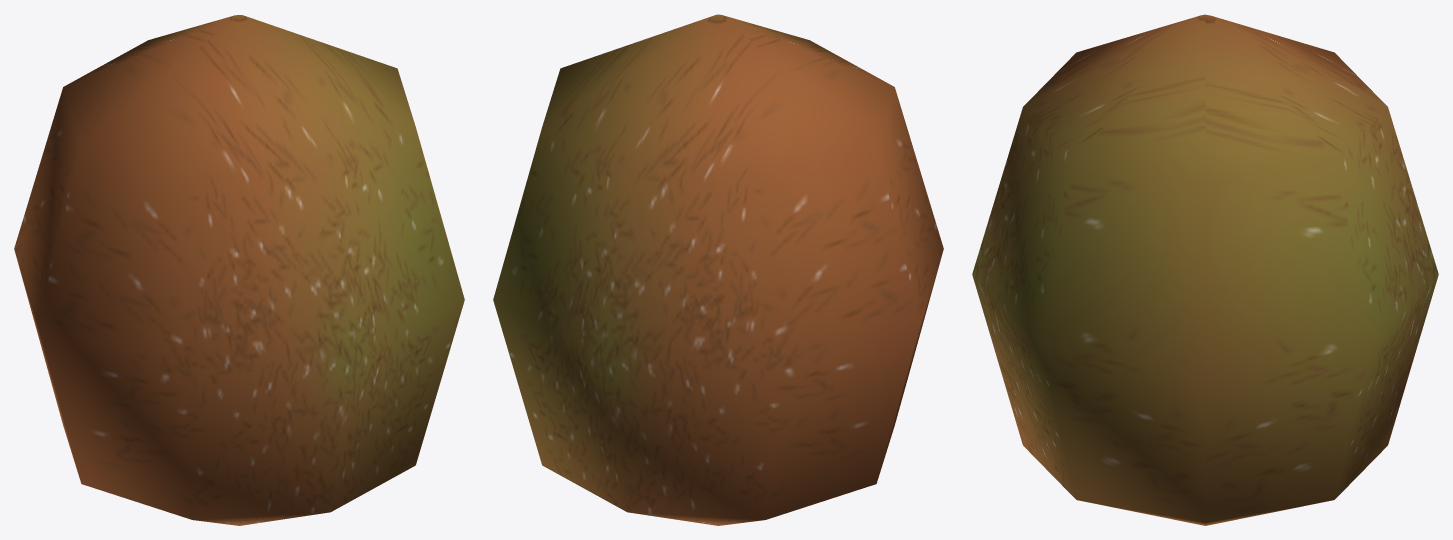
The model's file is Kiwi.FBX.
The picture shows the model from 3 angles, left to right: view 1: azimuth 30°, elevation 25°; view 2: azimuth 150°, elevation 25°; view 3: azimuth 270°, elevation 25°; orthographic projection.
Parts seen in each view (by area): view 1: Kiwi; view 2: Kiwi; view 3: Kiwi.
Part boxes in pixels (bbox=[...]): Kiwi: bbox=[14, 15, 464, 525]; Kiwi: bbox=[493, 14, 943, 525]; Kiwi: bbox=[972, 14, 1438, 525].
Bounding box in the file's own units: 5.37 × 6.5 × 5.37.
